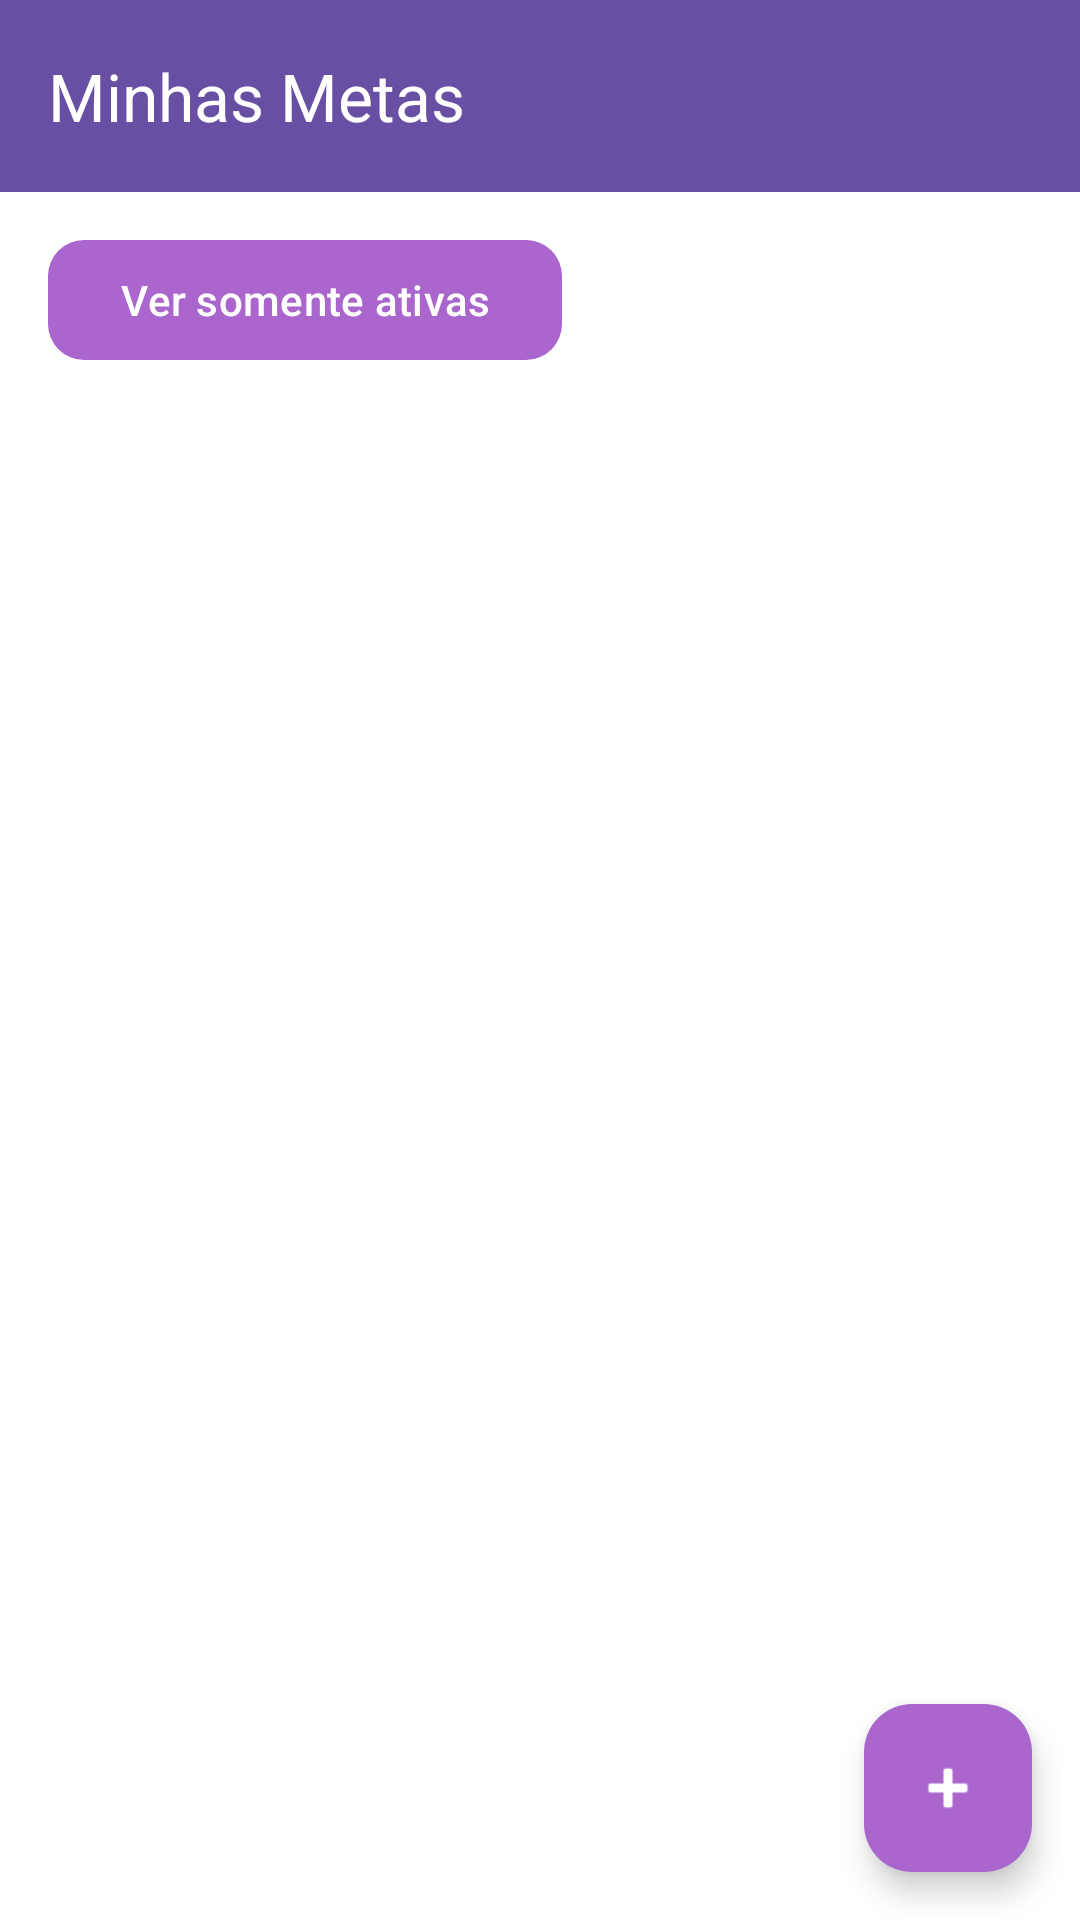

Point at icon controls on the screen. Image size 1080w x 1920h, points as (x=x, y=y).
Nova Meta: (x=948, y=1788)
